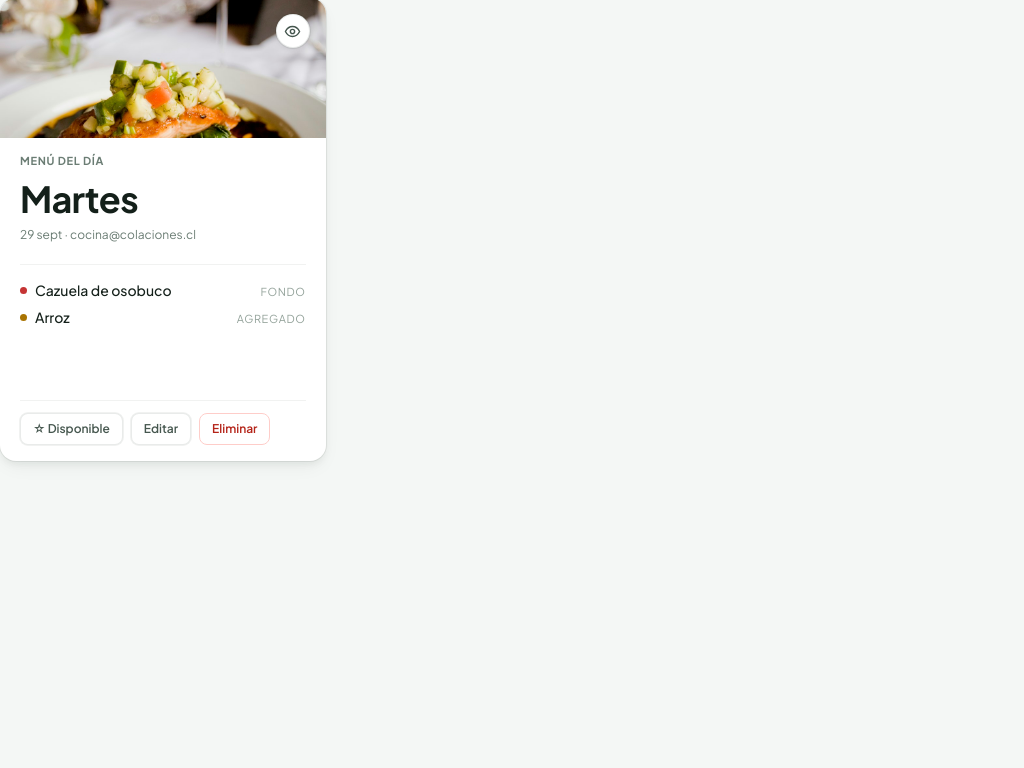
Test: PlatoList › la foto también aparece en el detalle del plato
This screenshot has width=1024, height=768.
What coordinates should you click on to do the following:
click the button named "ver plato completo"
I would click on:
 (293, 31)
Its box is [276,14,310,48].
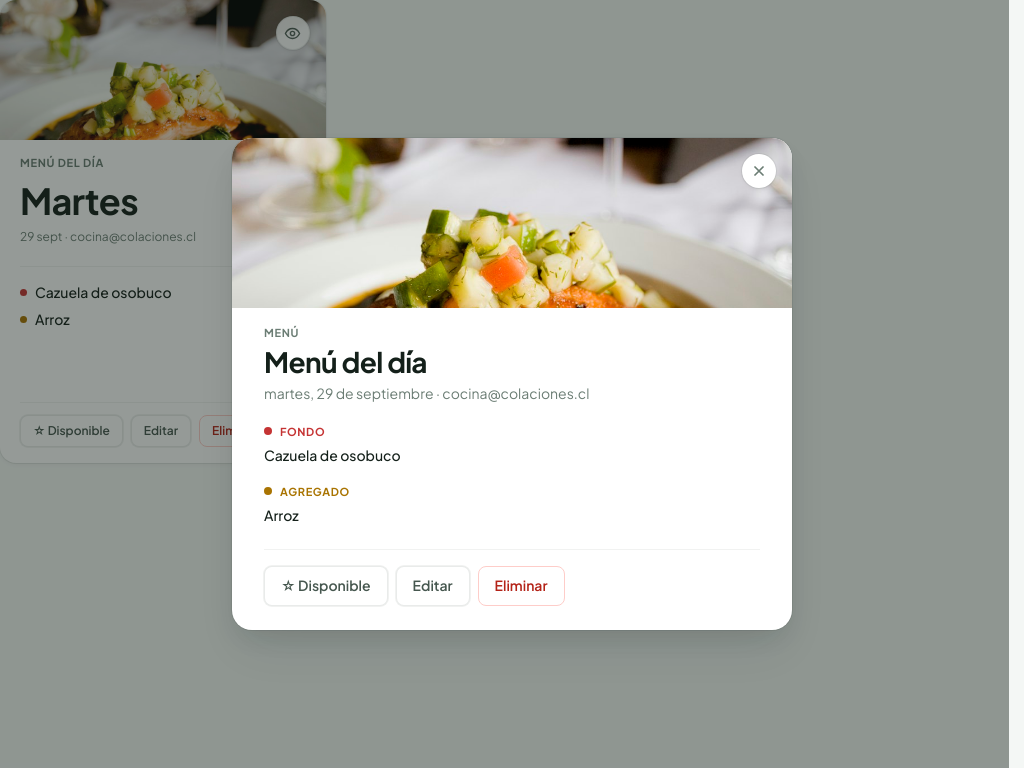
Now the dialog is shown, box [232,138,792,630]
